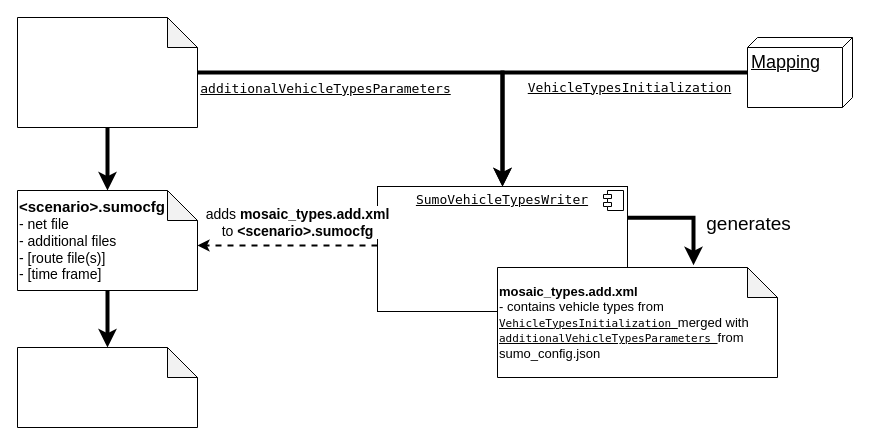
Image size: 870x445. Some labels were removed from this diagram. The shapes that lost their labels are listed below. From the top down, each one's box as (x1, y1, x2, y2) in pixels, then its label:
(16, 16, 198, 128): sumo_config.json - link to .sumocfg - additional SUMO parameters - see CSumo
(16, 346, 198, 428): <scenario>.net.xml - contains the network
